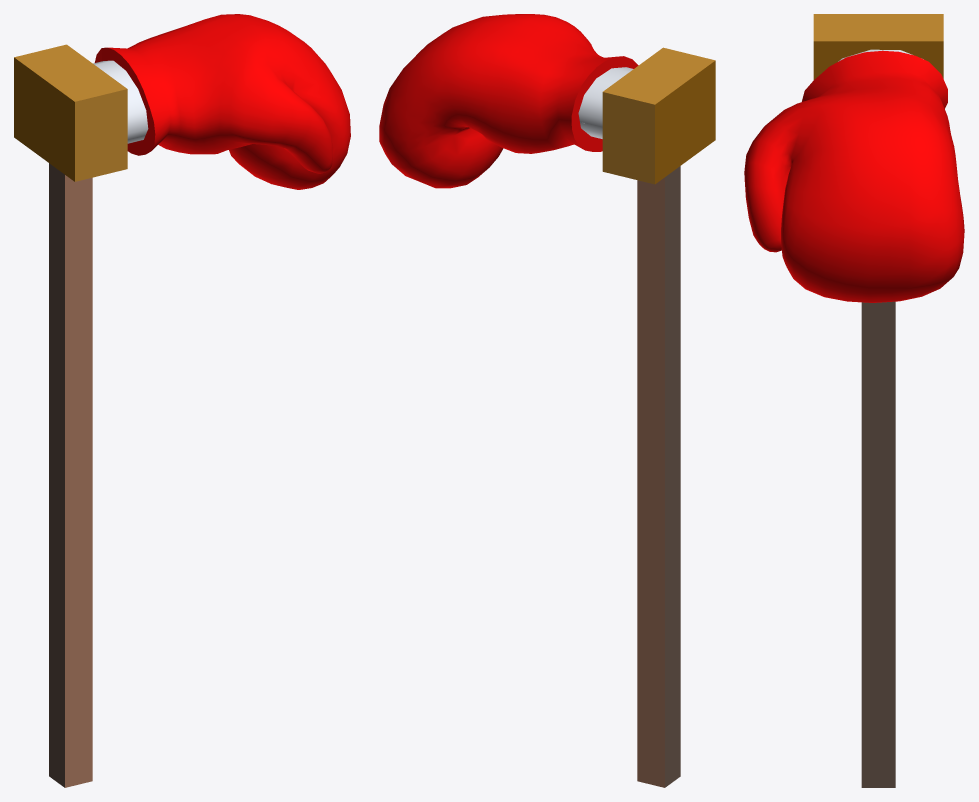
The model's file is Barrier_Box.fbx.
The picture shows the model from 3 angles, left to right: view 1: azimuth 30°, elevation 25°; view 2: azimuth 150°, elevation 25°; view 3: azimuth 270°, elevation 25°; orthographic projection. The views are drawn at different scales.
Parts seen in each view (by area): view 1: base, hand; view 2: base, hand; view 3: hand, base.
Part boxes in pixels (x1,y1,x2,y2): base: (14,44,127,787); hand: (93,14,350,189); base: (602,47,715,787); hand: (379,14,638,188); hand: (744,49,964,302); base: (813,14,943,787).
Size of the model in its own units: 69.54 by 166 by 43.58.
